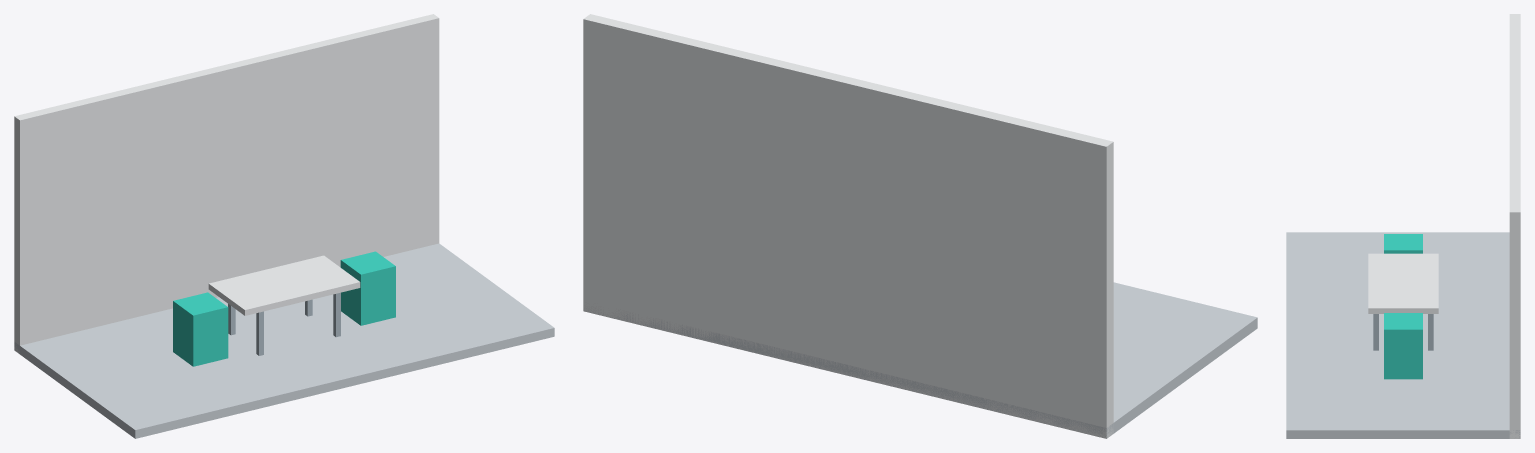
3 renders of one model, left to right at view 1: azimuth 30°, elevation 25°; view 2: azimuth 150°, elevation 25°; view 3: azimuth 270°, elevation 25°, orthographic. The views are drawn at different scales.
Visible parts, largest first — view 1: Exhibition Booth Concept; view 2: Exhibition Booth Concept; view 3: Exhibition Booth Concept.
Boxes of the visible parts, x1,y1,x2,y2 form: Exhibition Booth Concept: (14, 14, 554, 438); Exhibition Booth Concept: (583, 14, 1257, 438); Exhibition Booth Concept: (1286, 14, 1520, 438).
Size of the model in its own units: 6 by 3.2 by 3.
